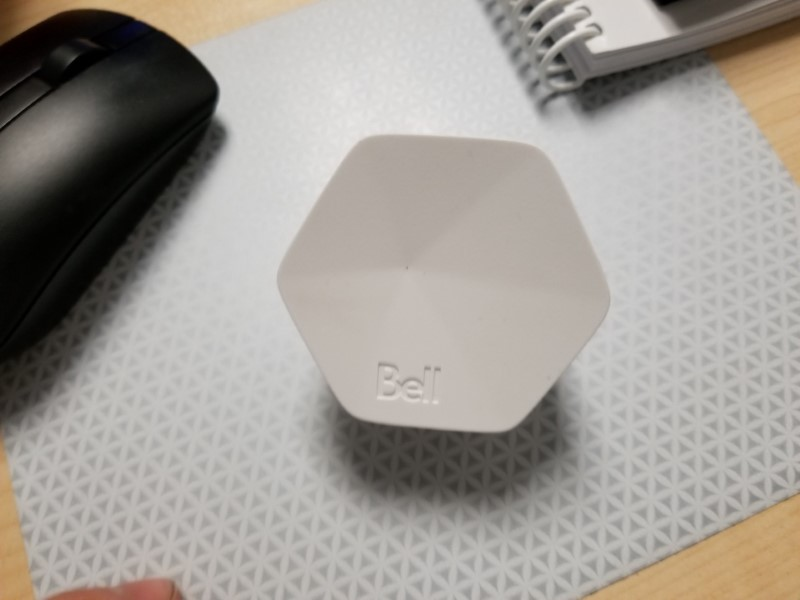pod: (273, 126, 620, 446)
